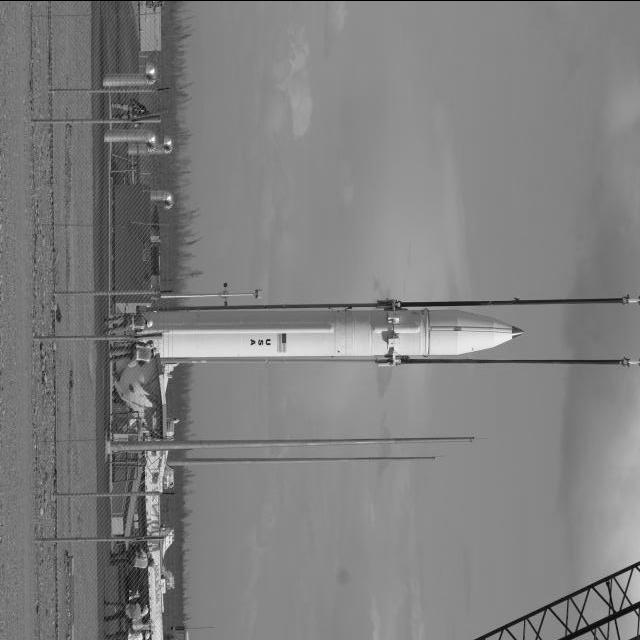missile: (159, 305, 523, 370)
